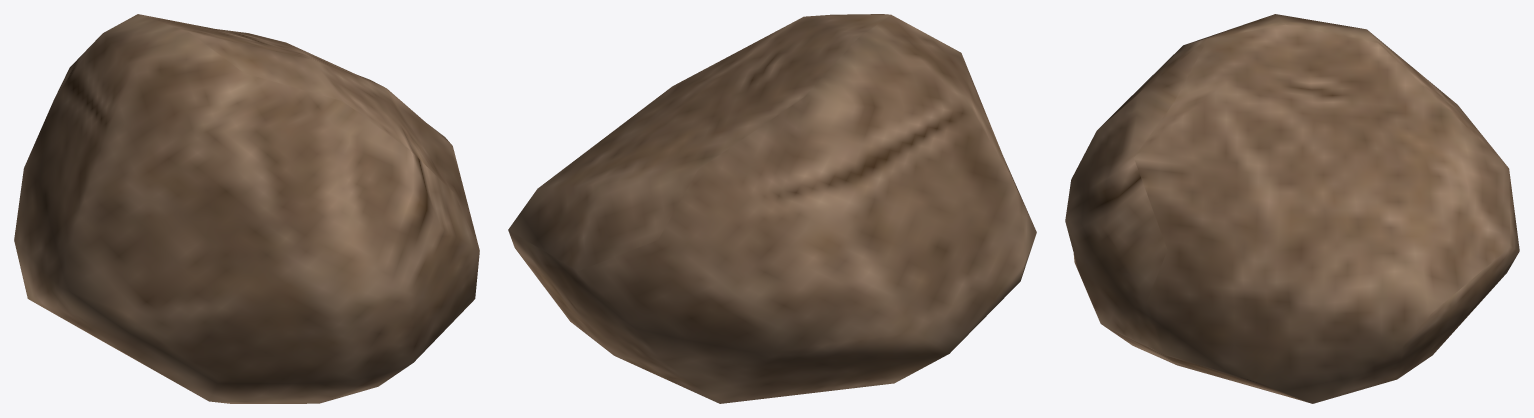
The model's file is sb_obj_nature006_Stone01c.fbx.
3 views of the same model, side by side, from view 1: azimuth 30°, elevation 25°; view 2: azimuth 150°, elevation 25°; view 3: azimuth 270°, elevation 25° (orthographic). The views are drawn at different scales.
Parts seen in each view (by area): view 1: sb_obj_nature006_Stone01c; view 2: sb_obj_nature006_Stone01c; view 3: sb_obj_nature006_Stone01c.
Part boxes in pixels (x1,y1,x2,y2): sb_obj_nature006_Stone01c: (14, 14, 479, 403); sb_obj_nature006_Stone01c: (508, 14, 1036, 403); sb_obj_nature006_Stone01c: (1065, 14, 1519, 403).
Bounding box in the file's own units: 0.5292 × 0.39 × 0.5566.
